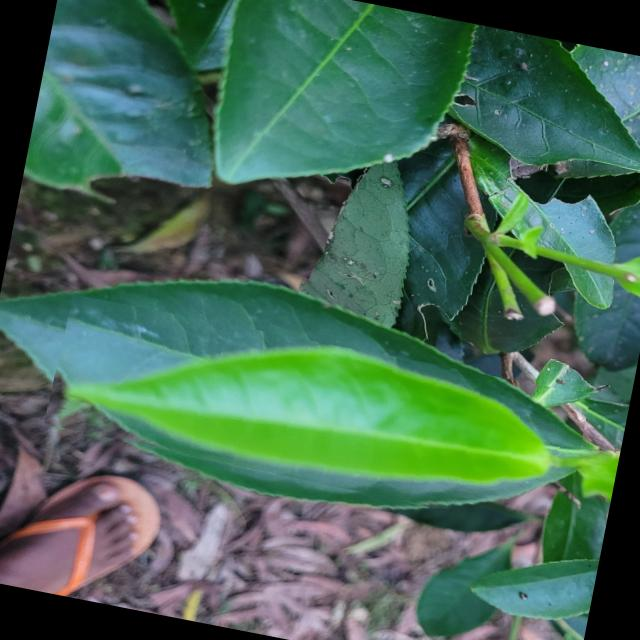Catagory A(1-2 days): (41, 293, 590, 536)
